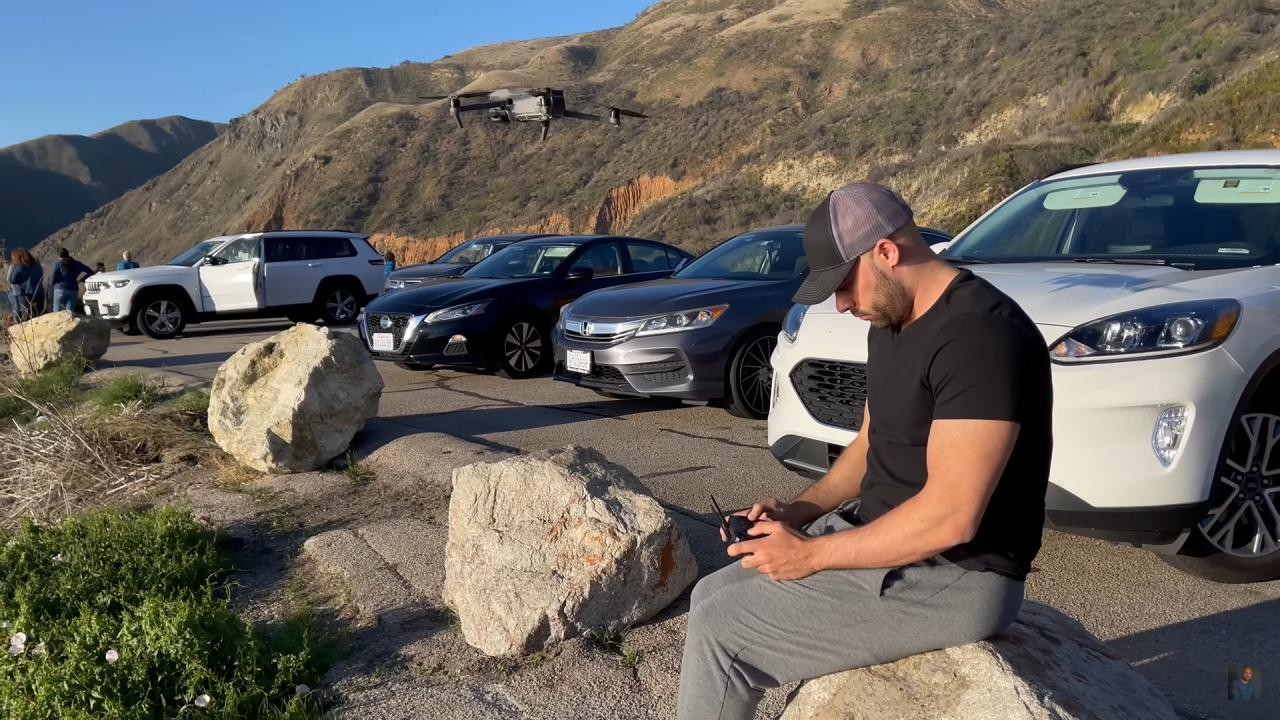Drone: (406, 77, 660, 151)
